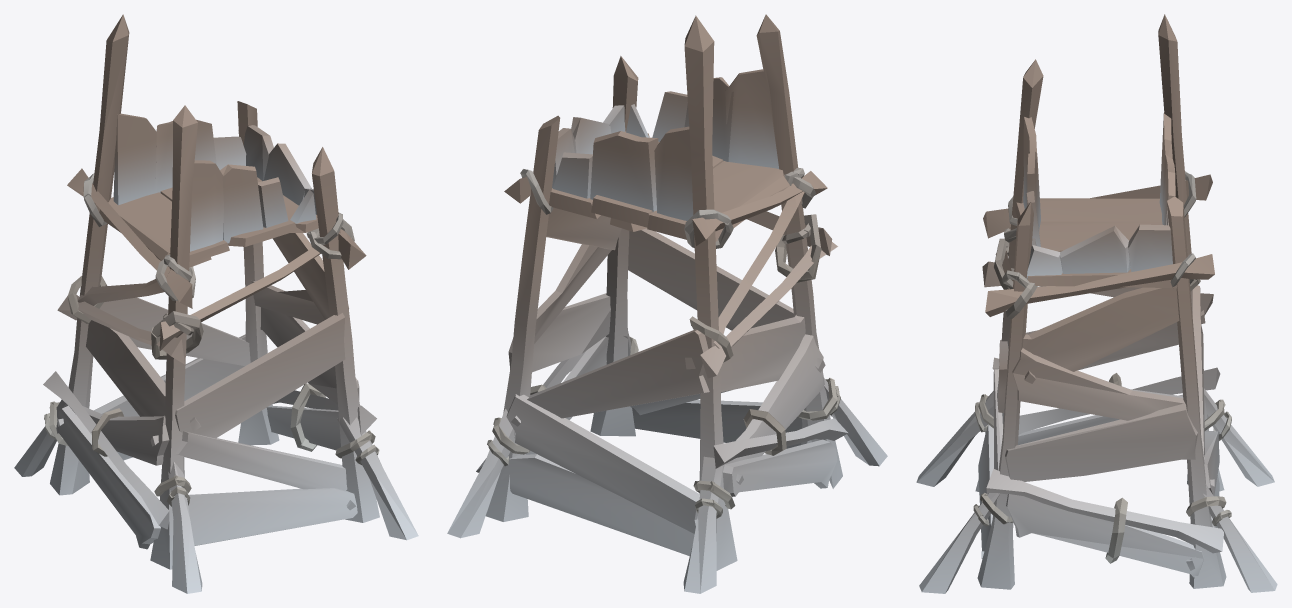
File: Terrain_Stage2_Decoration_11.fbx
The picture shows the model from 3 angles, left to right: view 1: azimuth 30°, elevation 25°; view 2: azimuth 150°, elevation 25°; view 3: azimuth 270°, elevation 25°; orthographic projection. The views are drawn at different scales.
Parts seen in each view (by area): view 1: terrain_tower_401_LOD0; view 2: terrain_tower_401_LOD0; view 3: terrain_tower_401_LOD0.
Part boxes in pixels (x1=…): terrain_tower_401_LOD0: x1=14, y1=14, x2=418, y2=593; terrain_tower_401_LOD0: x1=447, y1=14, x2=887, y2=593; terrain_tower_401_LOD0: x1=916, y1=14, x2=1277, y2=593.
Bounding box in the file's own units: 763 × 1437 × 960.
1 material, 1 textured.
